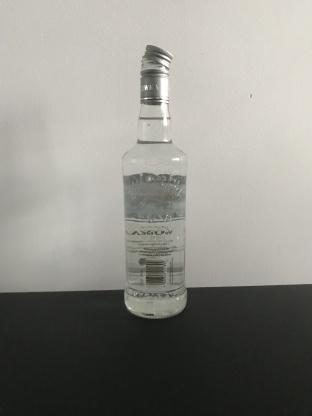nakretka: (138, 41, 174, 105)
